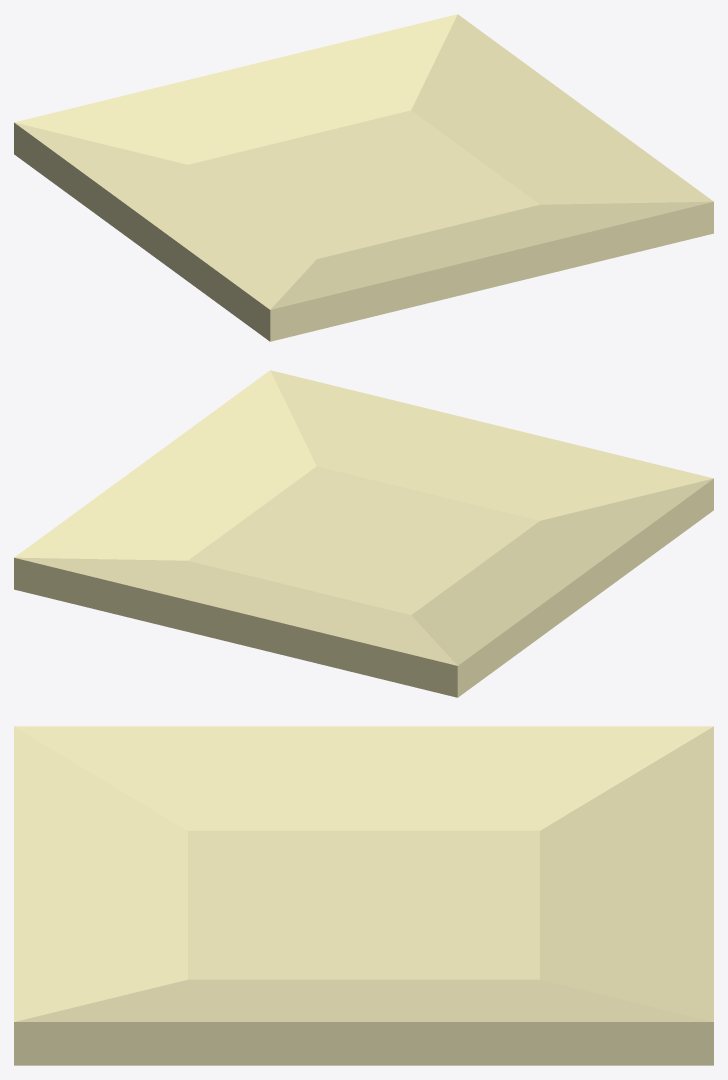
File: Itr_Obj_dish1_02.FBX
3 views of the same model, one above another, from view 1: azimuth 30°, elevation 25°; view 2: azimuth 150°, elevation 25°; view 3: azimuth 270°, elevation 25° (orthographic). The views are drawn at different scales.
Visible parts, largest first — view 1: Itr_Obj_dish1_02; view 2: Itr_Obj_dish1_02; view 3: Itr_Obj_dish1_02.
Part boxes in pixels (x1=…): Itr_Obj_dish1_02: x1=14, y1=14, x2=713, y2=341; Itr_Obj_dish1_02: x1=14, y1=370, x2=713, y2=697; Itr_Obj_dish1_02: x1=14, y1=726, x2=713, y2=1065.
Bounding box in the file's own units: 7.99 × 0.9383 × 7.99.
